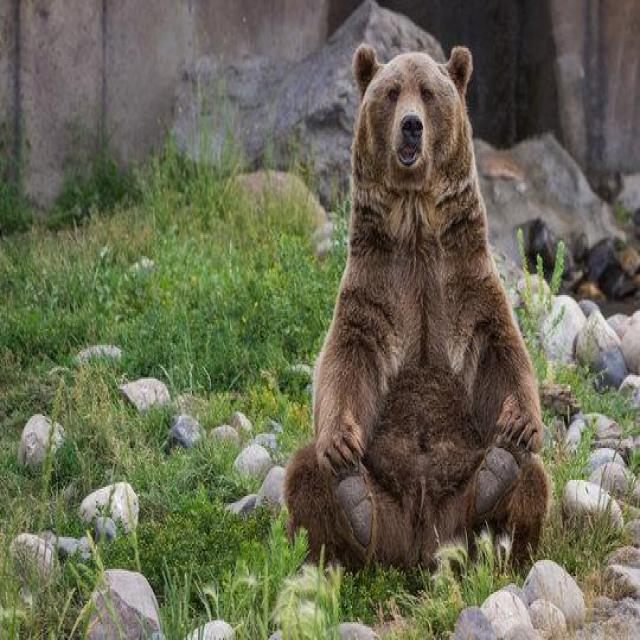Bear: (282, 46, 551, 578)
